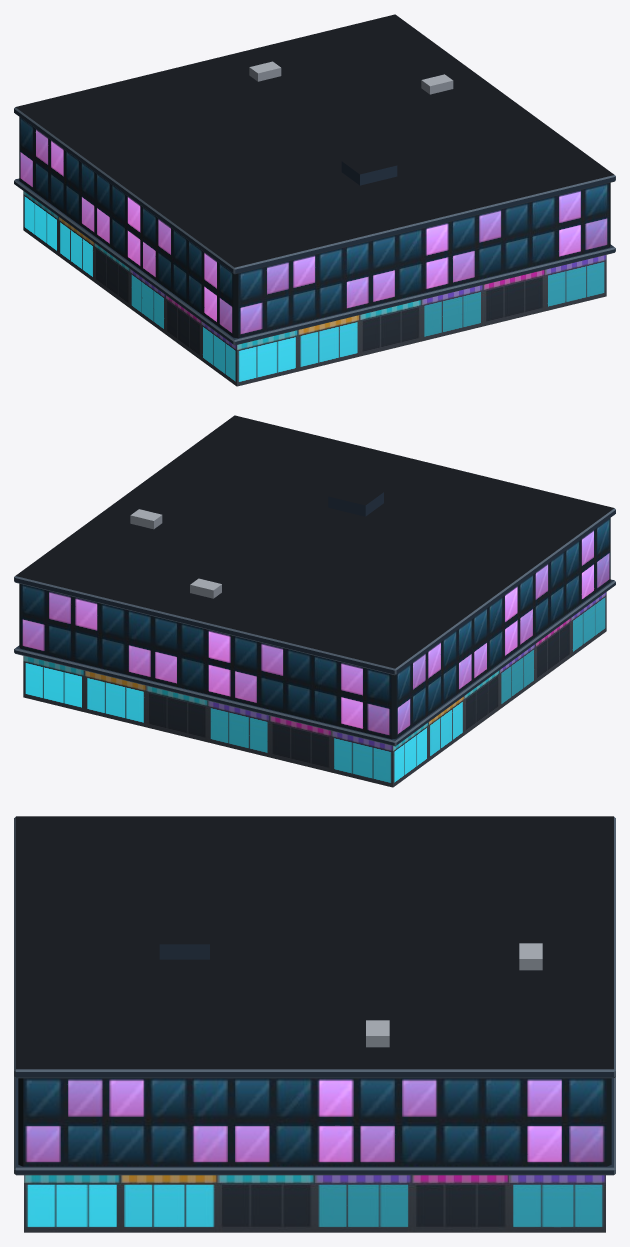
Rendered from building-36x36x12.glb.
3 views of the same model, one above another, from view 1: azimuth 30°, elevation 25°; view 2: azimuth 150°, elevation 25°; view 3: azimuth 270°, elevation 25° (orthographic). The views are drawn at different scales.
Visible parts, largest first — view 1: building-36x36x12; view 2: building-36x36x12; view 3: building-36x36x12.
Part boxes in pixels (box(x1,y1,x2,y2)): building-36x36x12: box(14, 14, 615, 386); building-36x36x12: box(14, 415, 615, 787); building-36x36x12: box(14, 816, 615, 1232).
Size of the model in its own units: 36 by 12 by 36.
1 material, 1 textured.
